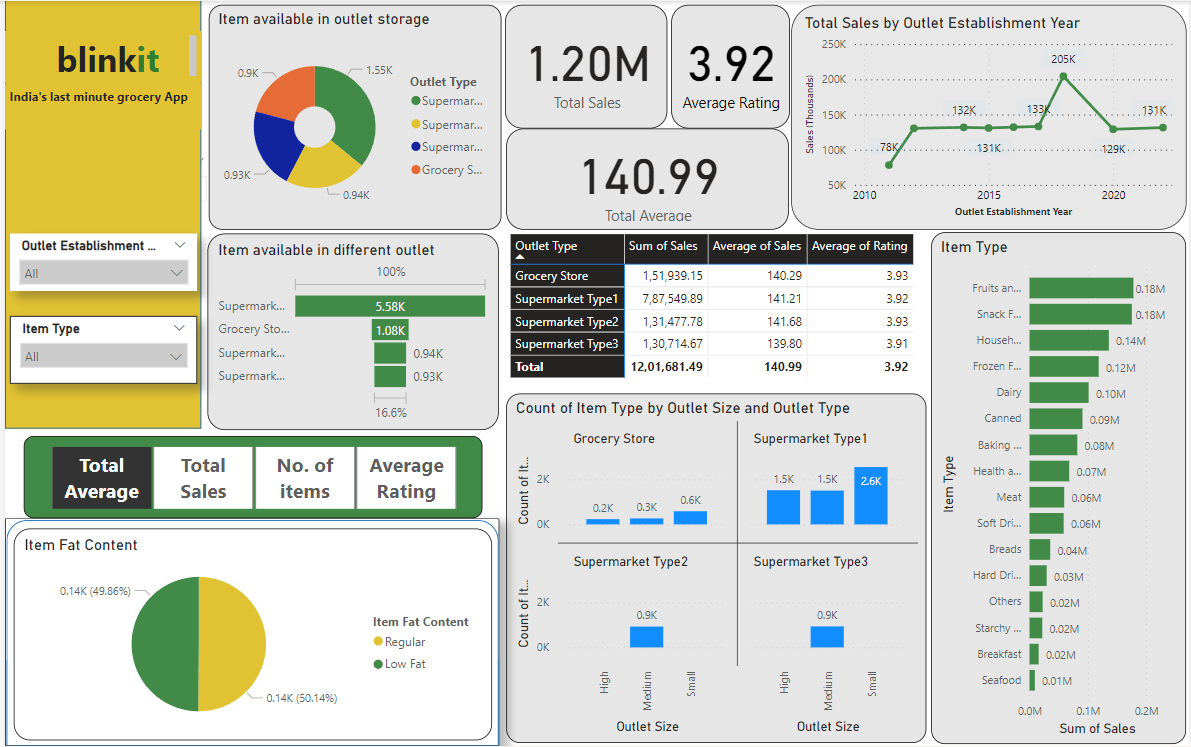

This screenshot's page, from the dashboard's own definition file:
{"tool":"powerbi","page":{"name":"Page 1","canvas":[1300,820],"ordinal":0},"visuals":[{"type":"lineChart","title":"Total Sales by Outlet Establishment Year","fields":{"Category":["BlinkIT Grocery Data.Outlet Establishment Year"],"Y":["Sum(BlinkIT Grocery Data.Sales)"]},"box":[864,4.3,434.3,247.1],"z":0},{"type":"columnChart","fields":{"Category":["BlinkIT Grocery Data.Outlet Size"],"Y":["CountNonNull(BlinkIT Grocery Data.Item Type)"],"Rows":["BlinkIT Grocery Data.Outlet Type"]},"box":[551.4,431.4,461.4,384.3],"z":1000},{"type":"clusteredBarChart","title":" Item Type","fields":{"Category":["BlinkIT Grocery Data.Item Type"],"Y":["Sum(BlinkIT Grocery Data.Sales)"]},"box":[1018,254,280,562],"z":2000},{"type":"pieChart","title":"Item Fat Content","fields":{"Category":["BlinkIT Grocery Data.Item Fat Content"],"Y":["BlinkIT Grocery Data.Total Average"]},"box":[10,580,525.7,232.9],"z":3000},{"type":"card","title":"Total Sales","fields":{"Values":["BlinkIT Grocery Data.Total Sales"]},"box":[550,4.3,178.6,135.7],"z":4000},{"type":"card","title":"Total Rating","fields":{"Values":["BlinkIT Grocery Data.Average Rating"]},"box":[731.4,4.3,130,135.7],"z":5000},{"type":"card","fields":{"Values":["BlinkIT Grocery Data.Total Average"]},"box":[551.4,140,310,111.4],"z":6000},{"type":"slicer","fields":{"Values":["BlinkIT Grocery Data.Outlet Establishment Year"]},"box":[0,162.9,231.4,65.7],"z":7000},{"type":"donutChart","title":"Item available in outlet storage","fields":{"Y":["Count(BlinkIT Grocery Data.Item Identifier)"],"Category":["BlinkIT Grocery Data.Outlet Type"]},"box":[224,4.3,321.4,247.1],"z":8000},{"type":"pivotTable","fields":{"Rows":["BlinkIT Grocery Data.Outlet Type"],"Values":["Sum(BlinkIT Grocery Data.Sales)","Avg(BlinkIT Grocery Data.Sales)","Avg(BlinkIT Grocery Data.Rating)"]},"box":[551.4,251.4,467.1,173],"z":10000},{"type":"shape","box":[0,0,215.7,470],"z":10002},{"type":"textbox","box":[0,32.9,215.7,57.1],"z":10003},{"type":"textbox","box":[0,90,215.7,50],"z":10004},{"type":"slicer","fields":{"Values":["Metrics.Metrics"]},"box":[20,478.6,504.3,90],"z":10005},{"type":"funnel","title":" Item available in different outlet","fields":{"Category":["BlinkIT Grocery Data.Outlet Type"],"Y":["CountNonNull(BlinkIT Grocery Data.Item Type)"]},"box":[223,255,320,215.7],"z":10006},{"type":"shape","box":[0,568.6,542.9,251.4],"z":10007},{"type":"slicer","fields":{"Values":["BlinkIT Grocery Data.Item Type"]},"box":[5.7,345.7,205.7,74.3],"z":10008},{"type":"slicer","fields":{"Values":["BlinkIT Grocery Data.Outlet Establishment Year"]},"box":[5.7,255.7,205.7,62.9],"z":10009}]}

Visuals, with their boxes in screenshot pixels (x1, y1, x2, y2), scaled from the page's 1300x820 canvas onto the 1191x747 screenshot:
"Total Sales by Outlet Establishment Year" lineChart: Rect(792, 4, 1189, 229)
columnChart - BlinkIT Grocery Data.Outlet Size x CountNonNull(BlinkIT Grocery Data.Item Type): Rect(505, 393, 928, 743)
" Item Type" clusteredBarChart: Rect(933, 231, 1189, 743)
"Item Fat Content" pieChart: Rect(9, 528, 491, 741)
"Total Sales" card: Rect(504, 4, 668, 128)
"Total Rating" card: Rect(670, 4, 789, 128)
card - BlinkIT Grocery Data.Total Average: Rect(505, 128, 789, 229)
slicer - BlinkIT Grocery Data.Outlet Establishment Year: Rect(0, 148, 212, 208)
"Item available in outlet storage" donutChart: Rect(205, 4, 500, 229)
pivotTable - BlinkIT Grocery Data.Outlet Type x Sum(BlinkIT Grocery Data.Sales): Rect(505, 229, 933, 387)
shape: Rect(0, 0, 198, 428)
textbox: Rect(0, 30, 198, 82)
textbox: Rect(0, 82, 198, 128)
slicer - Metrics.Metrics: Rect(18, 436, 480, 518)
" Item available in different outlet" funnel: Rect(204, 232, 497, 429)
shape: Rect(0, 518, 497, 746)
slicer - BlinkIT Grocery Data.Item Type: Rect(5, 315, 194, 383)
slicer - BlinkIT Grocery Data.Outlet Establishment Year: Rect(5, 233, 194, 290)
